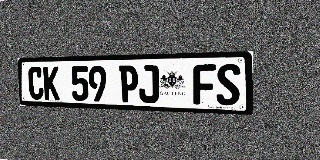5: (71, 66, 89, 101)
9: (88, 66, 107, 102)
C: (28, 67, 44, 100)
F: (193, 64, 216, 105)
J: (139, 65, 159, 103)
K: (43, 66, 60, 100)
P: (119, 65, 138, 103)
S: (216, 64, 240, 106)
